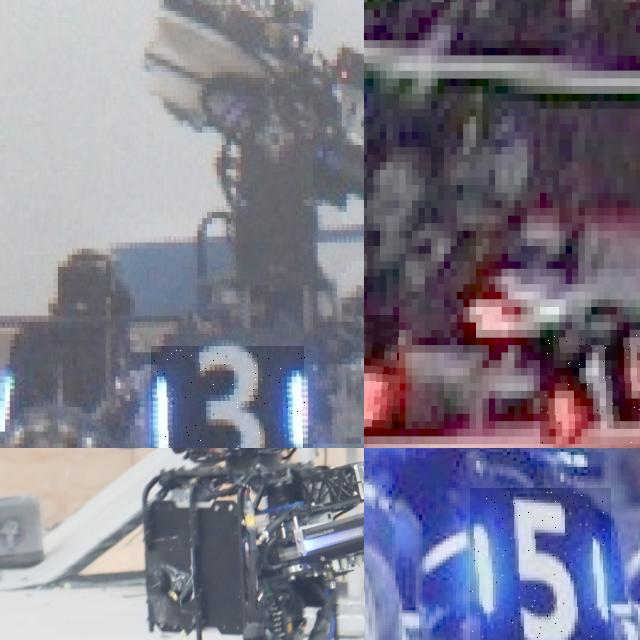B3: (151, 346, 305, 448)
B5: (469, 487, 611, 640)
R1: (540, 329, 640, 444)
